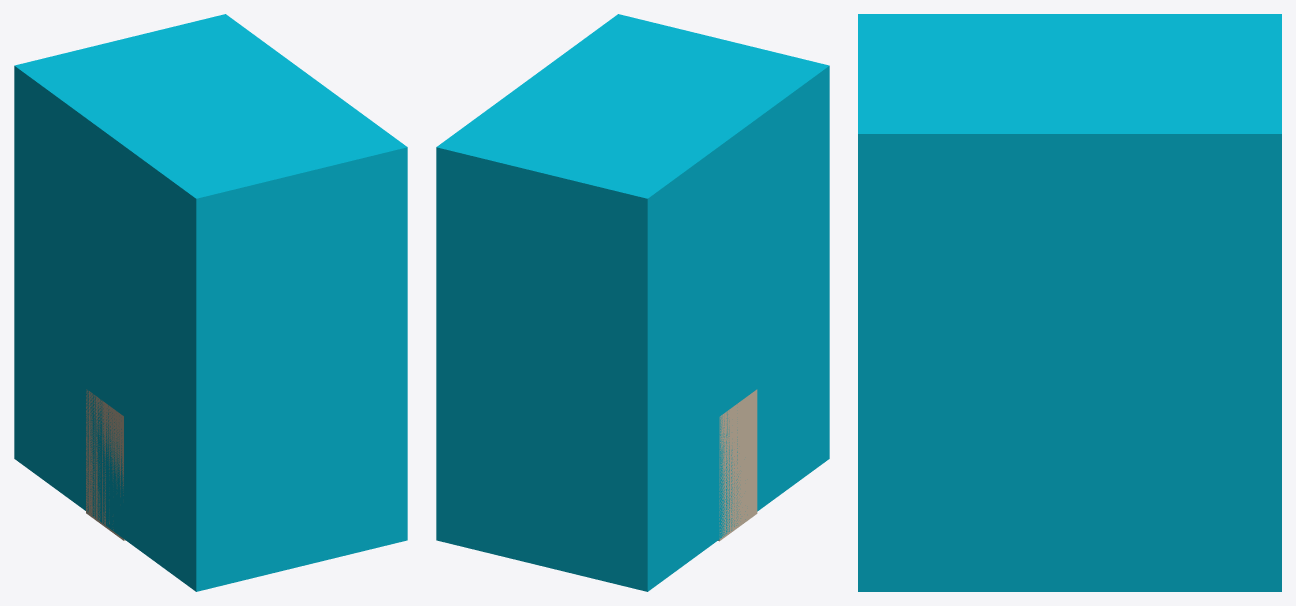
Rendered from furnishingelement-450-x-450-mm.glb.
The picture shows the model from 3 angles, left to right: view 1: azimuth 30°, elevation 25°; view 2: azimuth 150°, elevation 25°; view 3: azimuth 270°, elevation 25°; orthographic projection. The views are drawn at different scales.
Parts seen in each view (by area): view 1: 0BTBFw6f90Nfh9rP1dlXru, 2gRXFgjRn2HPE$YoDLX0vP; view 2: 0BTBFw6f90Nfh9rP1dlXru, 2gRXFgjRn2HPE$YoDLX0vP; view 3: 0BTBFw6f90Nfh9rP1dlXru.
Part boxes in pixels (box(x1,y1,x2,y2)): 0BTBFw6f90Nfh9rP1dlXru: box(14, 14, 407, 591); 2gRXFgjRn2HPE$YoDLX0vP: box(86, 389, 125, 540); 0BTBFw6f90Nfh9rP1dlXru: box(436, 14, 829, 591); 2gRXFgjRn2HPE$YoDLX0vP: box(718, 389, 757, 541); 0BTBFw6f90Nfh9rP1dlXru: box(858, 14, 1281, 591).
Size of the model in its own units: 1.46 by 2.6 by 2.17.
